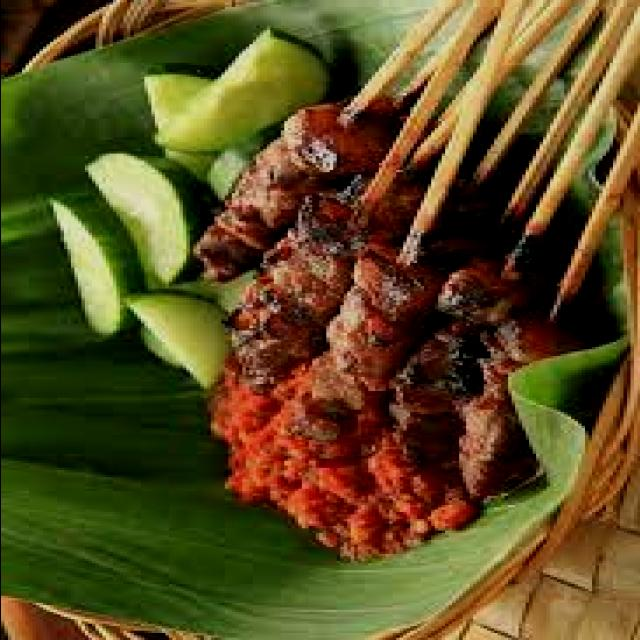sate: (196, 0, 640, 503)
